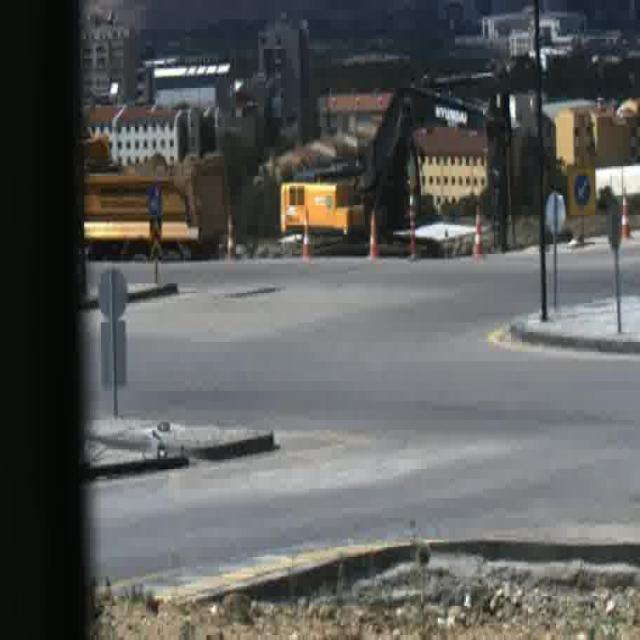Car: (84, 143, 226, 259)
